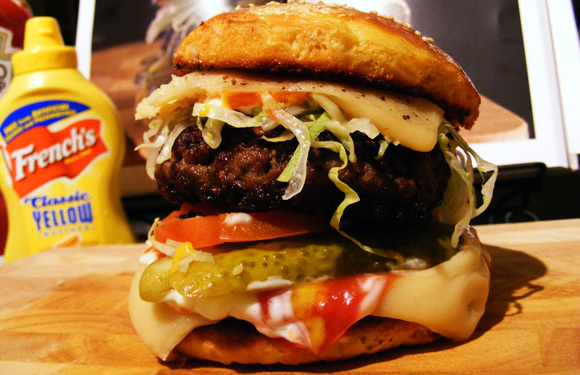hamburger_buns: (173, 7, 503, 128)
